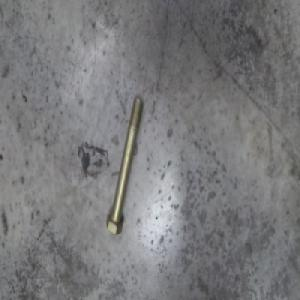Bolt: (105, 98, 145, 238)
